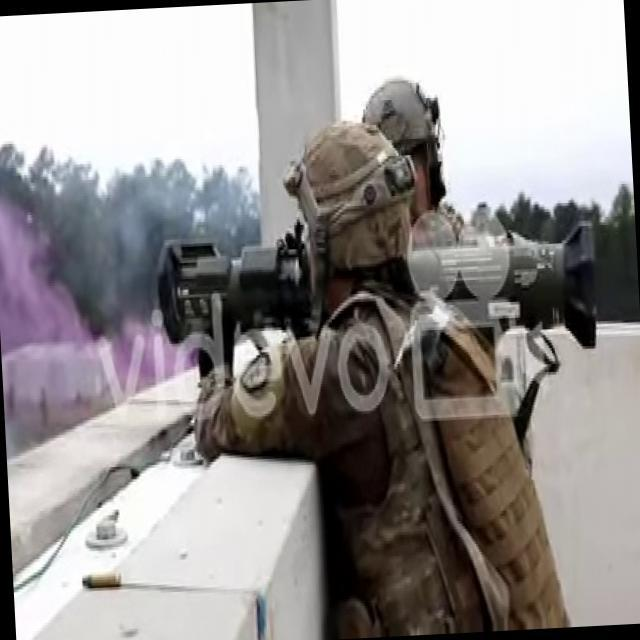rocket: (156, 212, 601, 374)
